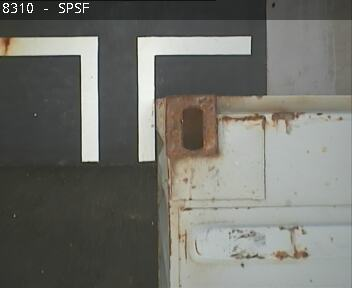groundmarker_1: (1, 36, 249, 161)
